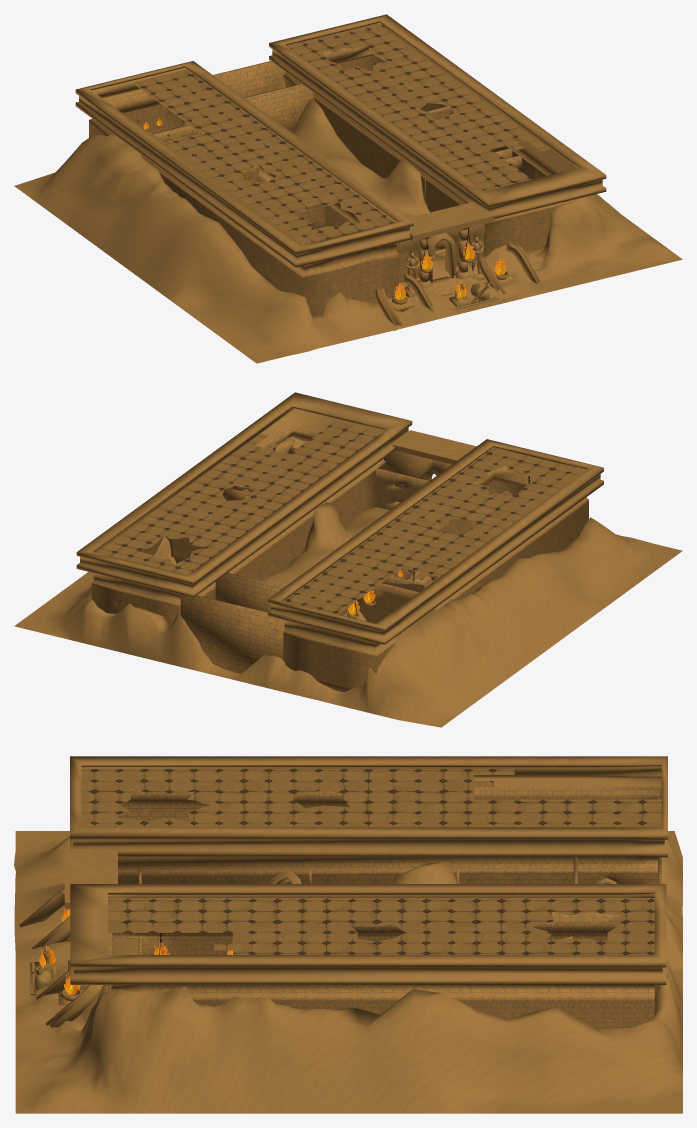
Rendered from SandDungeon2.glb.
3 renders of one model, top to bottom at view 1: azimuth 30°, elevation 25°; view 2: azimuth 150°, elevation 25°; view 3: azimuth 270°, elevation 25°, orthographic. The views are drawn at different scales.
Visible parts, largest first — view 1: SAND, Cube.117, Cube, ROOF.002, ROOF, Cube.010, Cube.008, Cube.188, Cube.122, Cube.042, Cube.043, Cube.025; view 2: SAND, Cube, Cube.117, ROOF.002, ROOF, Cube.010, Cube.008, Cube.122, Cube.188; view 3: SAND, Cube.117, Cube, ROOF.002, ROOF, Cube.188, Cube.043, Cube.042.
Part boxes in pixels (x1,y1,x2,y2): SAND: (14,79,682,363); Cube.117: (75,61,413,319); Cube: (269,14,606,265); ROOF.002: (132,69,395,244); ROOF: (287,23,548,190); Cube.010: (182,61,313,131); Cube.008: (396,106,521,283); Cube.188: (408,202,494,240); Cube.122: (153,125,325,229); Cube.042: (374,273,434,330); Cube.043: (479,242,540,294); Cube.025: (429,233,456,282); SAND: (14,436,682,727); Cube: (76,392,412,626); Cube.117: (267,439,603,691); ROOF.002: (284,447,585,614); ROOF: (97,421,382,574); Cube.010: (180,573,284,673); Cube.008: (165,447,484,563); Cube.122: (357,574,438,623); Cube.188: (392,430,476,464); SAND: (14,831,682,1113); Cube.117: (70,756,667,883); Cube: (70,884,666,1028); ROOF.002: (81,769,661,827); ROOF: (108,898,654,954); Cube.188: (64,848,117,909); Cube.043: (36,969,103,1027); Cube.042: (19,889,70,949).
Size of what is drawn, in the model's own units: 160 by 32.07 by 160.
8 materials, 7 textured.
